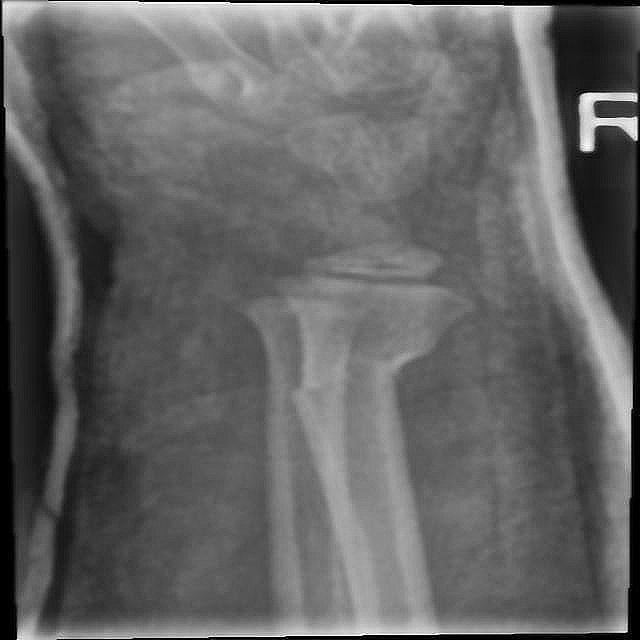bone: (282, 336, 444, 406)
